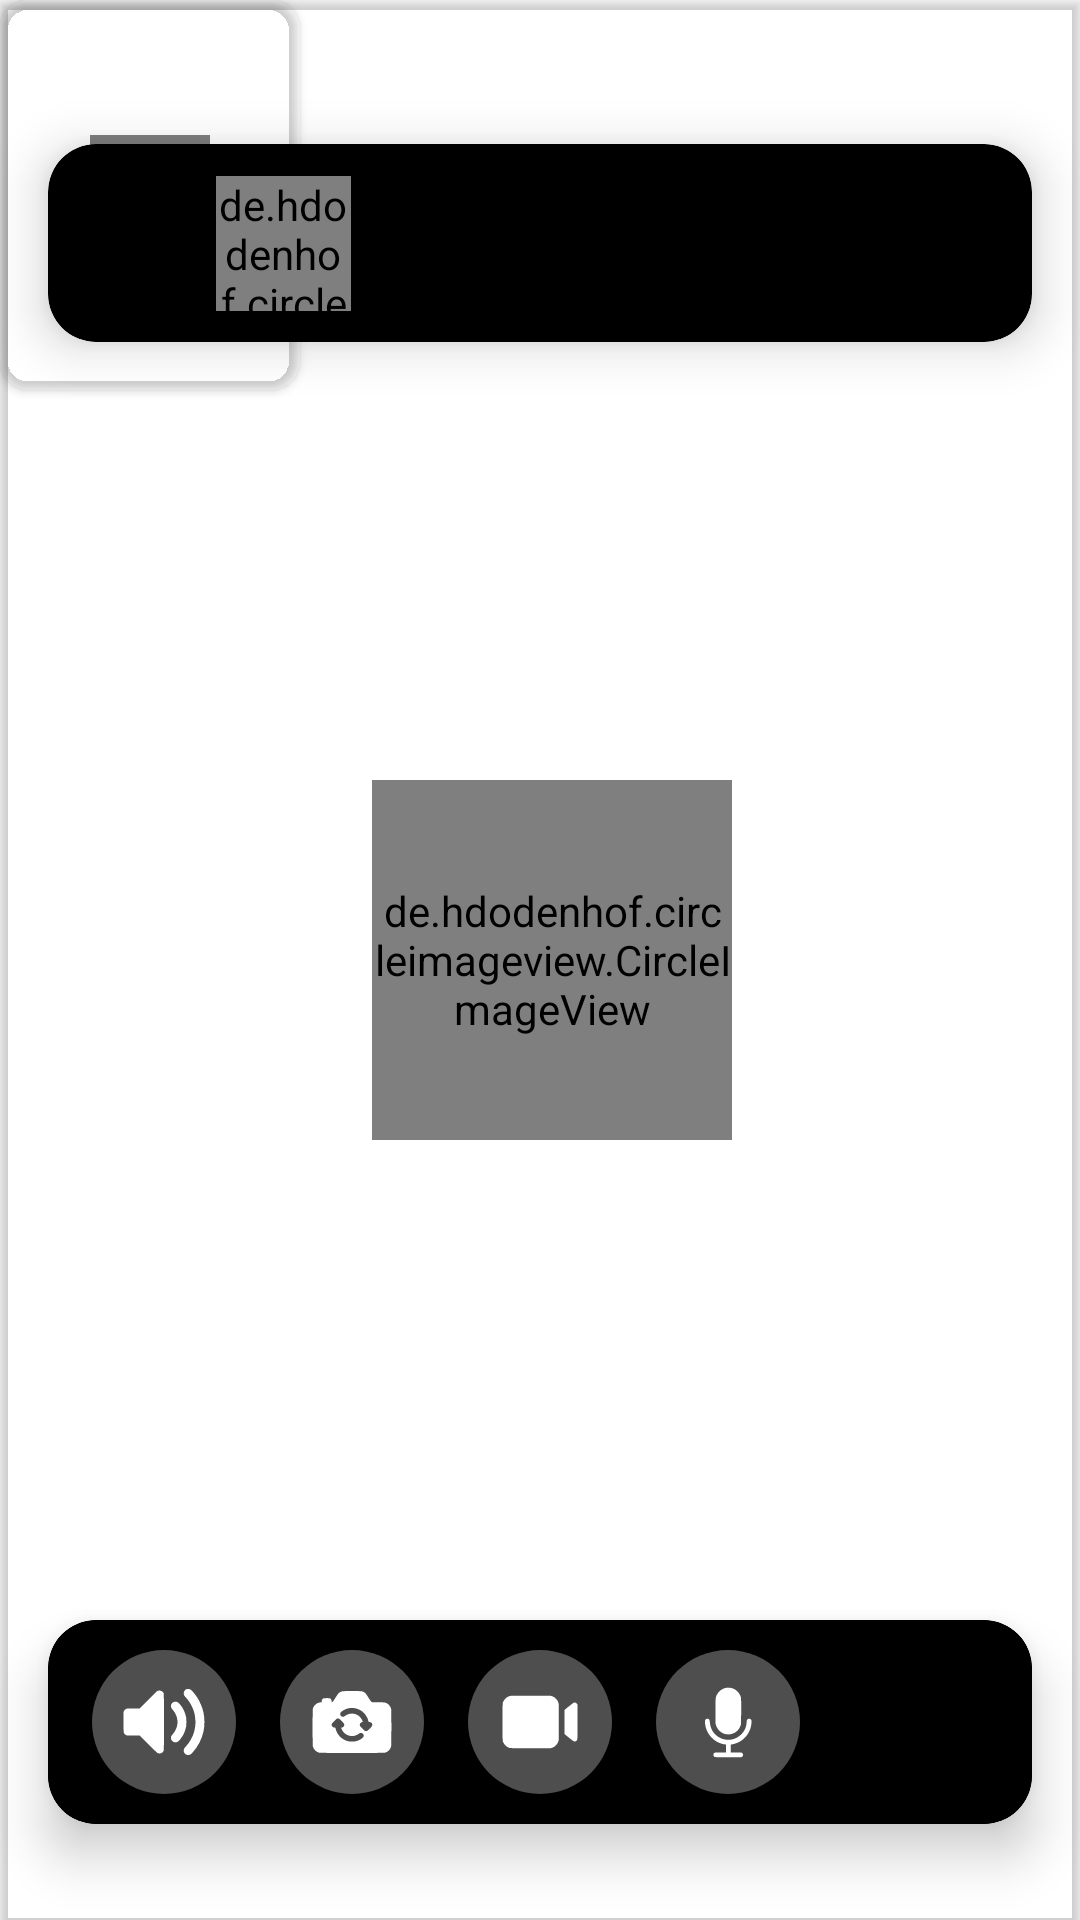

Where icons sit on this 1080px x 1920px app screen, as [x1, y1, x2, y2]:
mic on: [656, 1650, 800, 1794]
speaker on: [92, 1650, 236, 1794]
switch camera: [280, 1650, 424, 1794]
video on: [468, 1650, 612, 1794]
